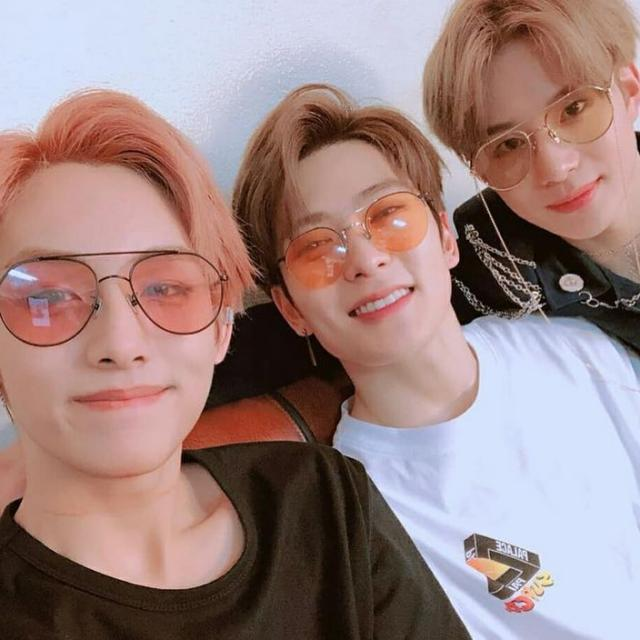Glasses: (0, 243, 236, 352), (274, 175, 451, 298), (468, 70, 633, 197)
